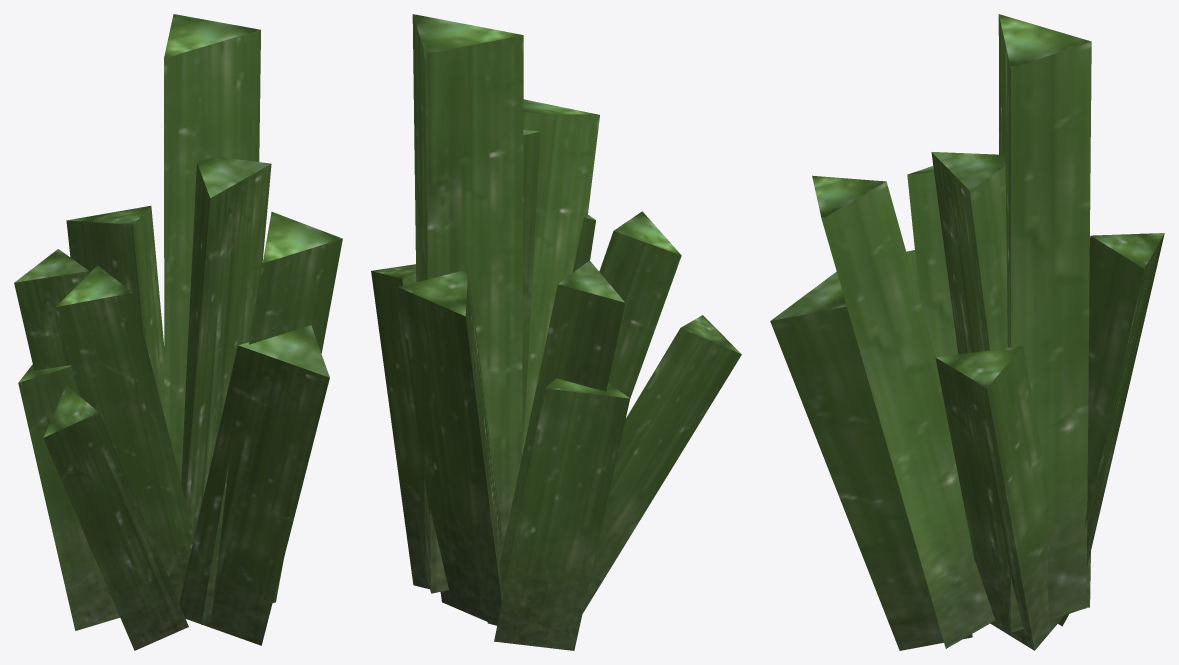
File: Crystal2_LOD1.fbx
The picture shows the model from 3 angles, left to right: view 1: azimuth 30°, elevation 25°; view 2: azimuth 150°, elevation 25°; view 3: azimuth 270°, elevation 25°; orthographic projection. The views are drawn at different scales.
Parts seen in each view (by area): view 1: polySurface89; view 2: polySurface89; view 3: polySurface89.
Boxes of the visible parts, x1,y1,x2,y2 form: polySurface89: (14,14,342,650); polySurface89: (371,14,741,650); polySurface89: (770,14,1164,650).
Bounding box in the file's own units: 0.5638 × 0.9639 × 0.5566.
